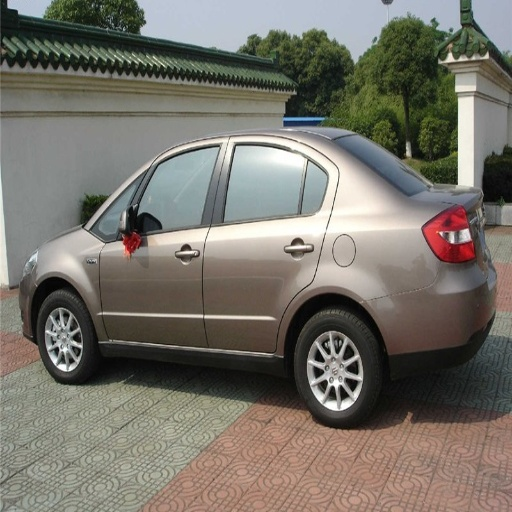back_bumper: (376, 260, 497, 379)
back_glass: (342, 135, 431, 194)
back_left_door: (203, 140, 334, 353)
front_left_door: (100, 141, 227, 346)
